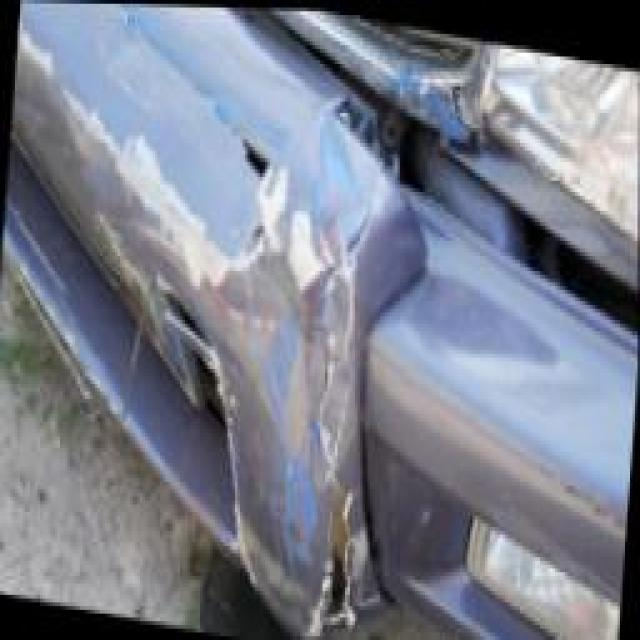Bumper: (0, 26, 440, 640)
